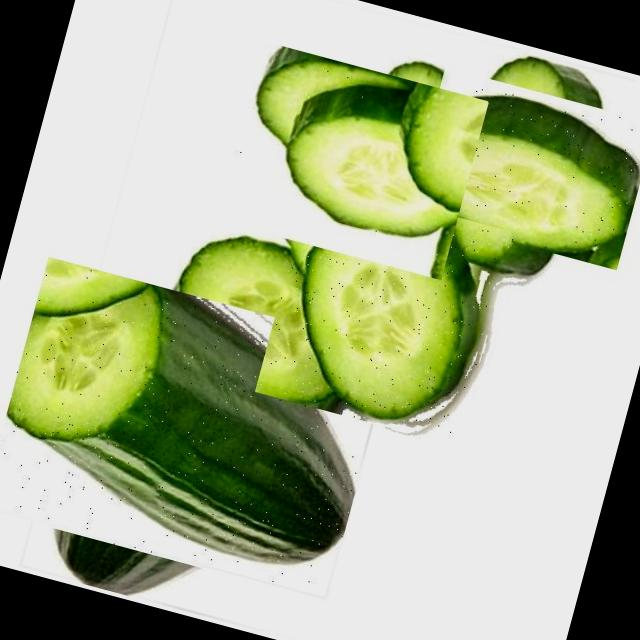Cucumber: (0, 255, 398, 587)
